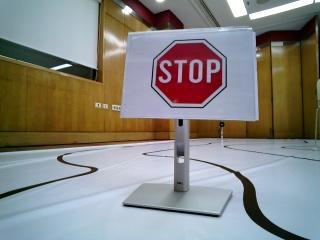stop: (138, 36, 236, 115)
